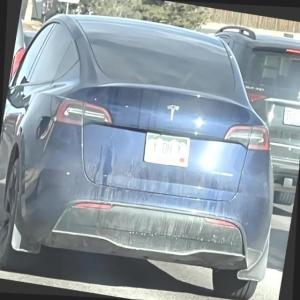Plate: (143, 132, 190, 168)
